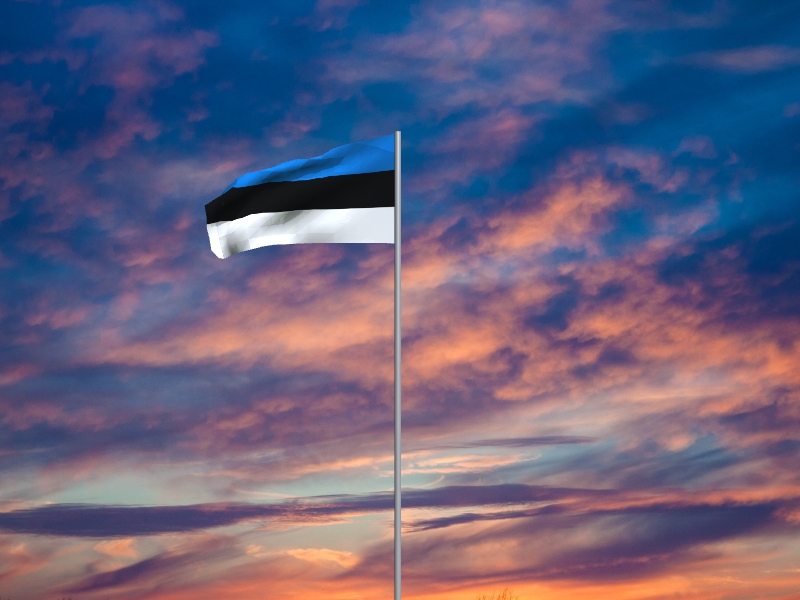ee: (205, 134, 395, 261)
